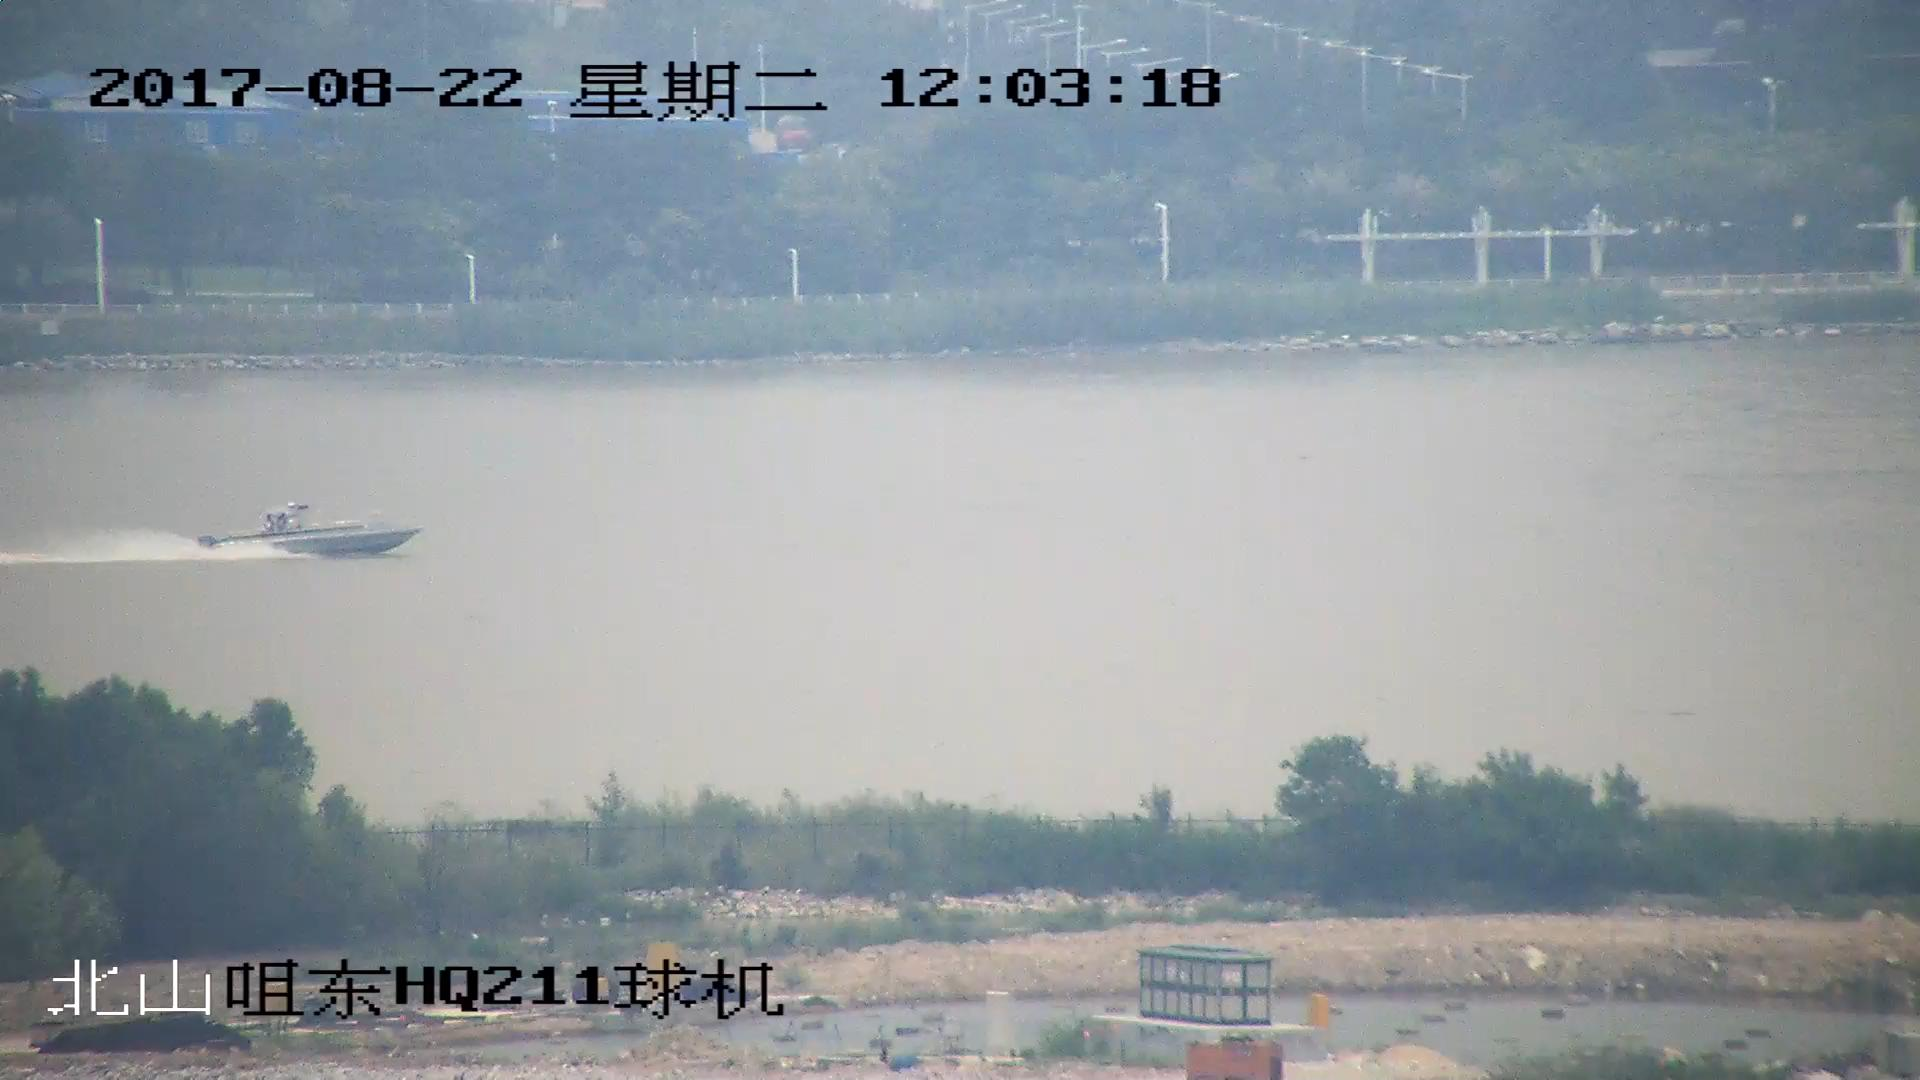passenger ship: (200, 503, 420, 565)
